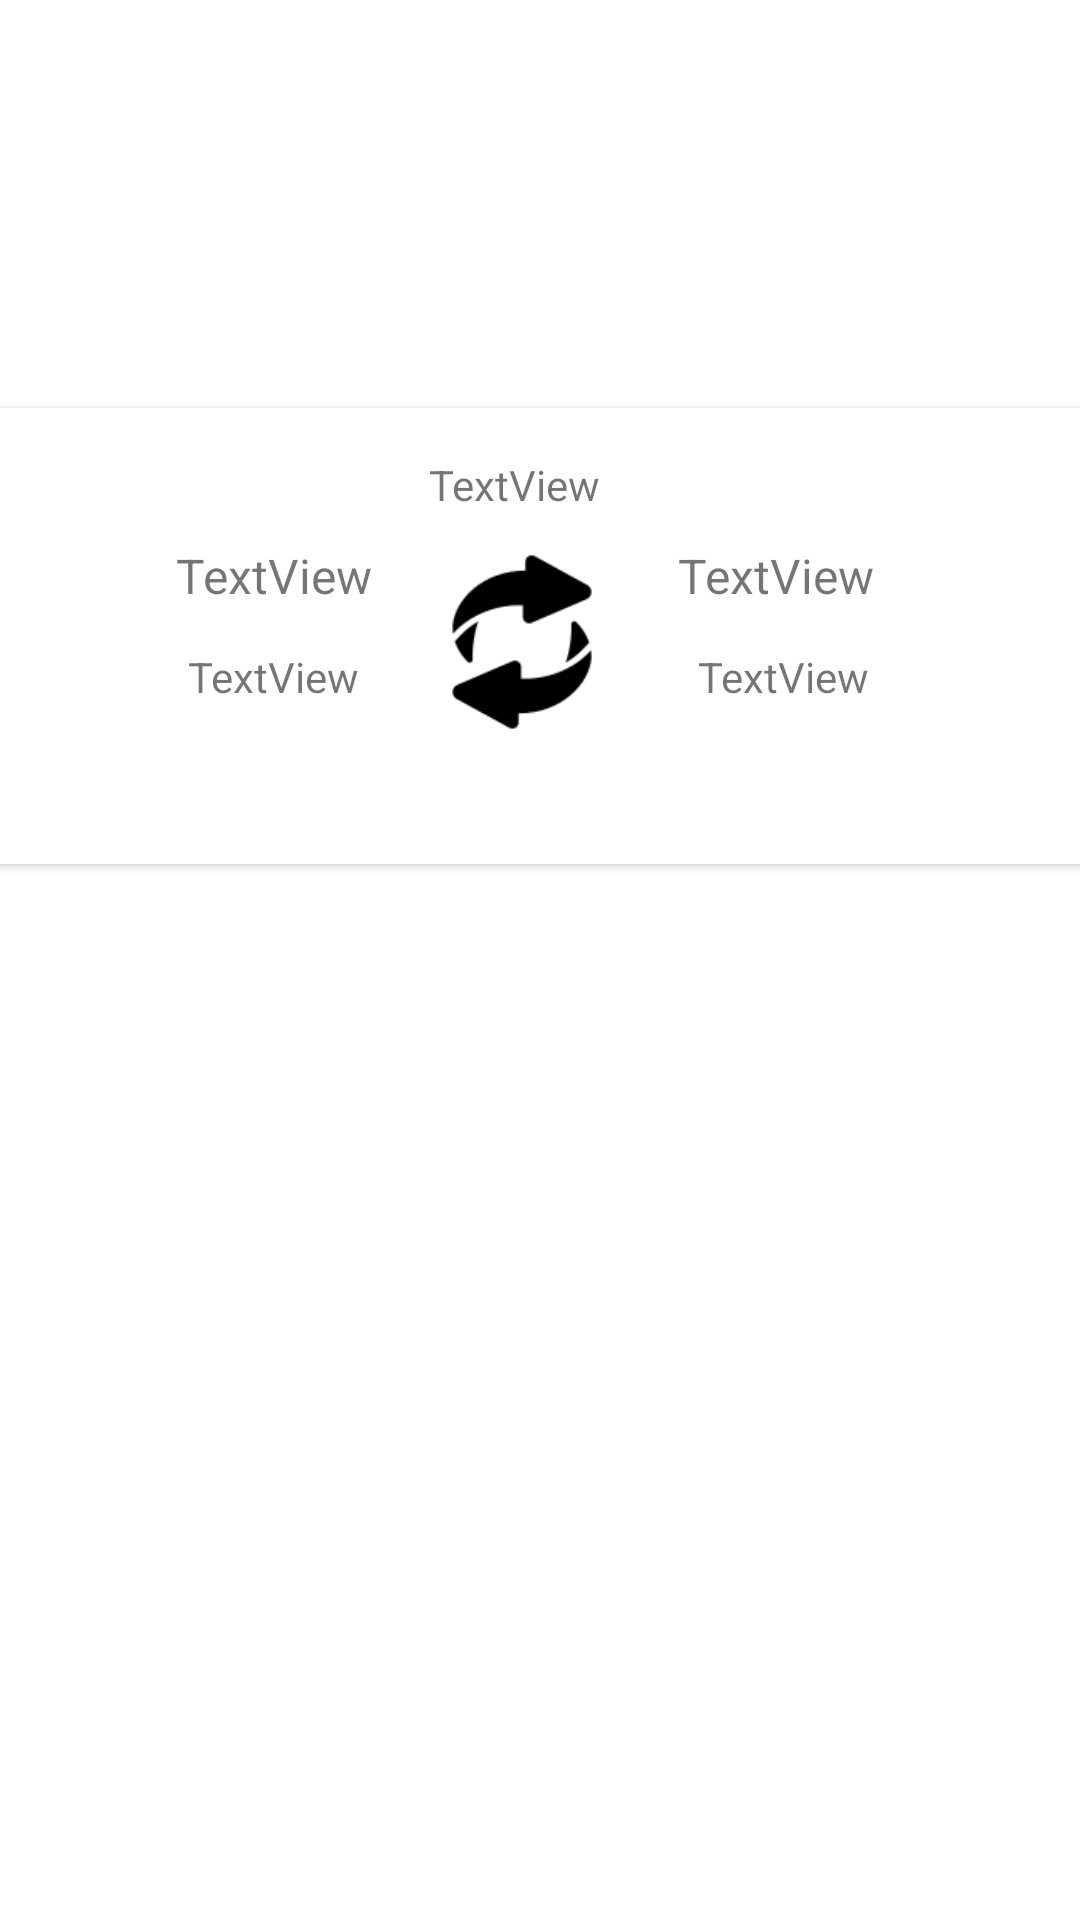

Named icons in this screenshot (1080*1920) and their centers, (x=x, y=y):
exchange: (x=522, y=642)
